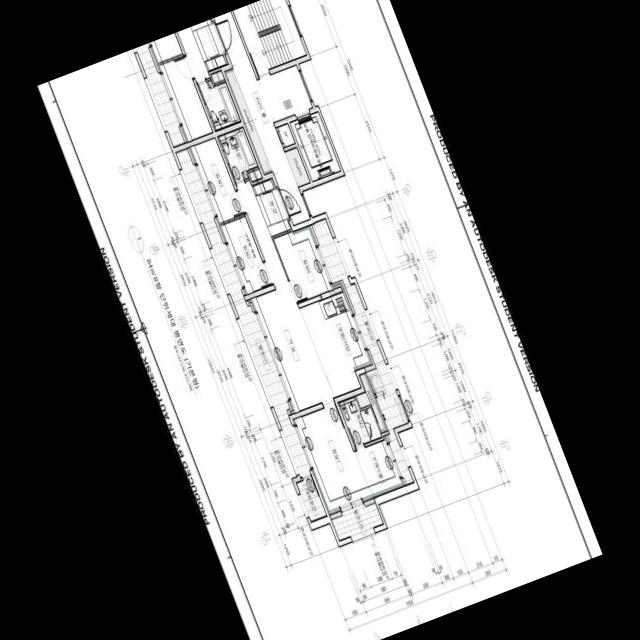background: (37, 0, 603, 640)
space_balconi: (176, 149, 310, 477), (312, 219, 413, 484), (331, 503, 383, 540)
space_bedroom: (294, 404, 370, 511), (191, 138, 244, 223), (274, 229, 332, 303), (221, 217, 271, 294)
space_dressroom: (354, 440, 401, 495)
space_elevator_hall: (214, 12, 332, 225)
space_front: (252, 179, 291, 236)
space_kitchen: (299, 292, 369, 398)
space_living_room: (237, 181, 333, 412)
space_other: (226, 70, 272, 173), (356, 374, 385, 430), (296, 477, 326, 521), (284, 148, 310, 187), (278, 124, 295, 147), (249, 169, 262, 181)
space_staircase: (233, 0, 306, 73)
space_toilet: (218, 128, 258, 184), (338, 397, 381, 447)
